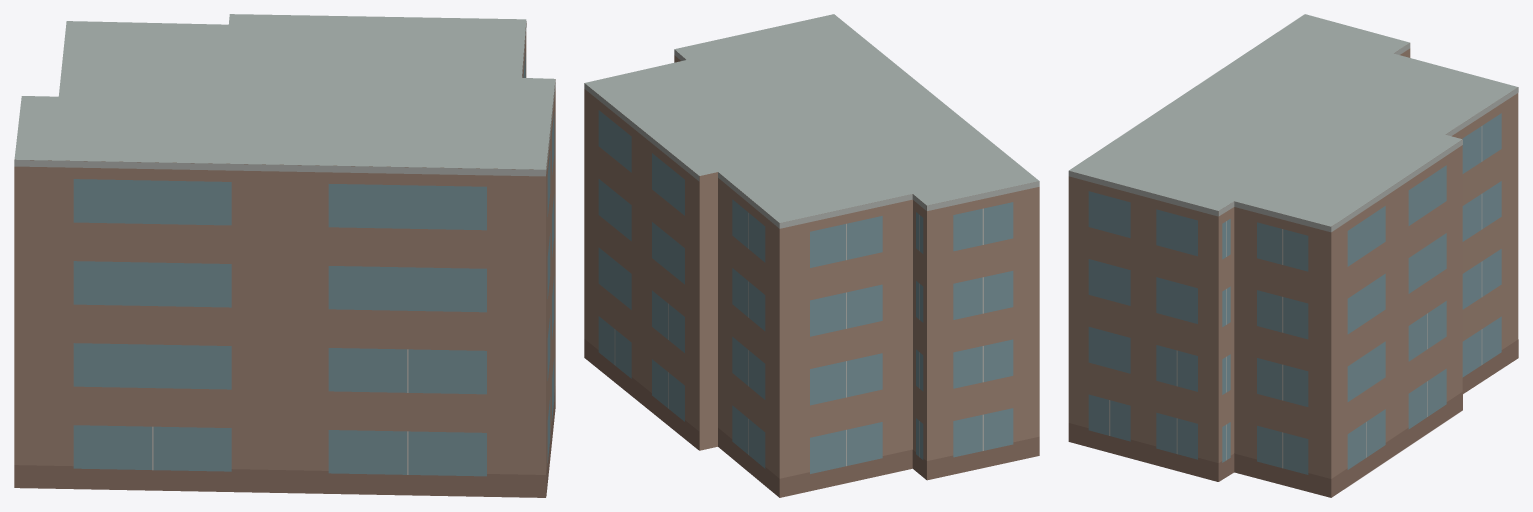
File: survey-upis-32667225.glb
3 views of the same model, side by side, from view 1: azimuth 30°, elevation 25°; view 2: azimuth 150°, elevation 25°; view 3: azimuth 270°, elevation 25° (orthographic). The views are drawn at different scales.
Parts seen in each view (by area): view 1: survey-upis-32667225.tmp; view 2: survey-upis-32667225.tmp; view 3: survey-upis-32667225.tmp.
Part boxes in pixels (x1=…): survey-upis-32667225.tmp: x1=14, y1=14, x2=555, y2=497; survey-upis-32667225.tmp: x1=584, y1=14, x2=1039, y2=497; survey-upis-32667225.tmp: x1=1068, y1=14, x2=1518, y2=497.
Bounding box in the file's own units: 19.87 × 11.8 × 17.75.
